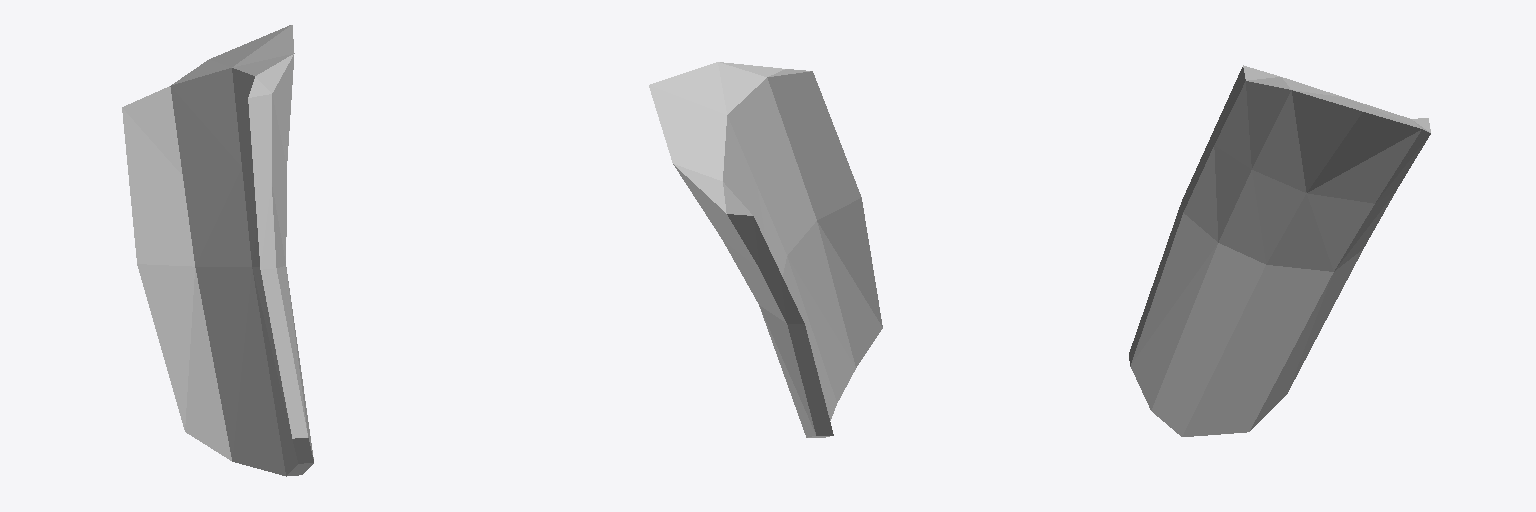
File: RangerGuardL.obj
3 renders of one model, left to right at view 1: azimuth 30°, elevation 25°; view 2: azimuth 150°, elevation 25°; view 3: azimuth 270°, elevation 25°, orthographic.
Parts seen in each view (by area): view 1: RangerGuardL; view 2: RangerGuardL; view 3: RangerGuardL.
Boxes of the visible parts, <box> form: RangerGuardL: <box>122,25,313,476</box>; RangerGuardL: <box>649,62,882,437</box>; RangerGuardL: <box>1129,65,1430,436</box>.
Size of the model in its own units: 0.1569 by 0.3608 by 0.2638.